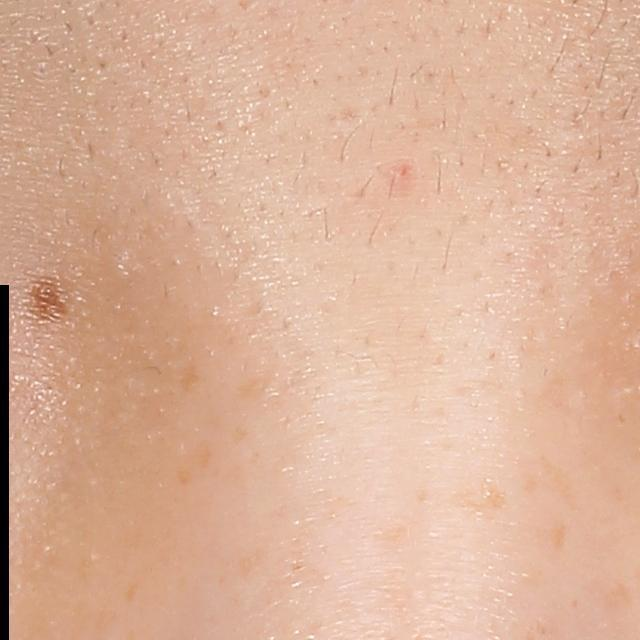melasma: (441, 473, 512, 520), (541, 448, 579, 506), (177, 358, 201, 399), (191, 439, 218, 473), (174, 465, 199, 489), (550, 516, 567, 551), (125, 580, 141, 606)
nevus: (25, 274, 70, 325)
